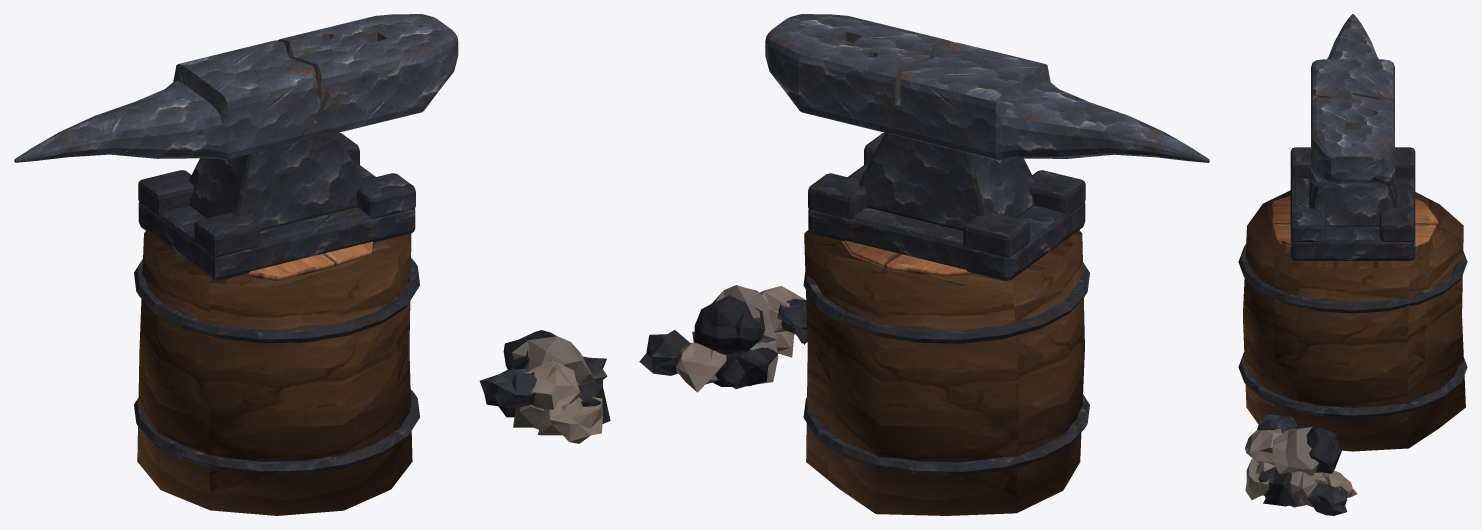
File: forge_anvil_cracked.glb
3 views of the same model, side by side, from view 1: azimuth 30°, elevation 25°; view 2: azimuth 150°, elevation 25°; view 3: azimuth 270°, elevation 25° (orthographic). The views are drawn at different scales.
Parts seen in each view (by area): view 1: model; view 2: model; view 3: model.
Part boxes in pixels (left/top/right/bottom): model: left=14, top=14, right=610, bottom=515; model: left=639, top=14, right=1209, bottom=515; model: left=1238, top=14, right=1467, bottom=515.
Bounding box in the file's own units: 1.19 × 0.7897 × 0.514.
Materials: 8 (5 with a texture image).
